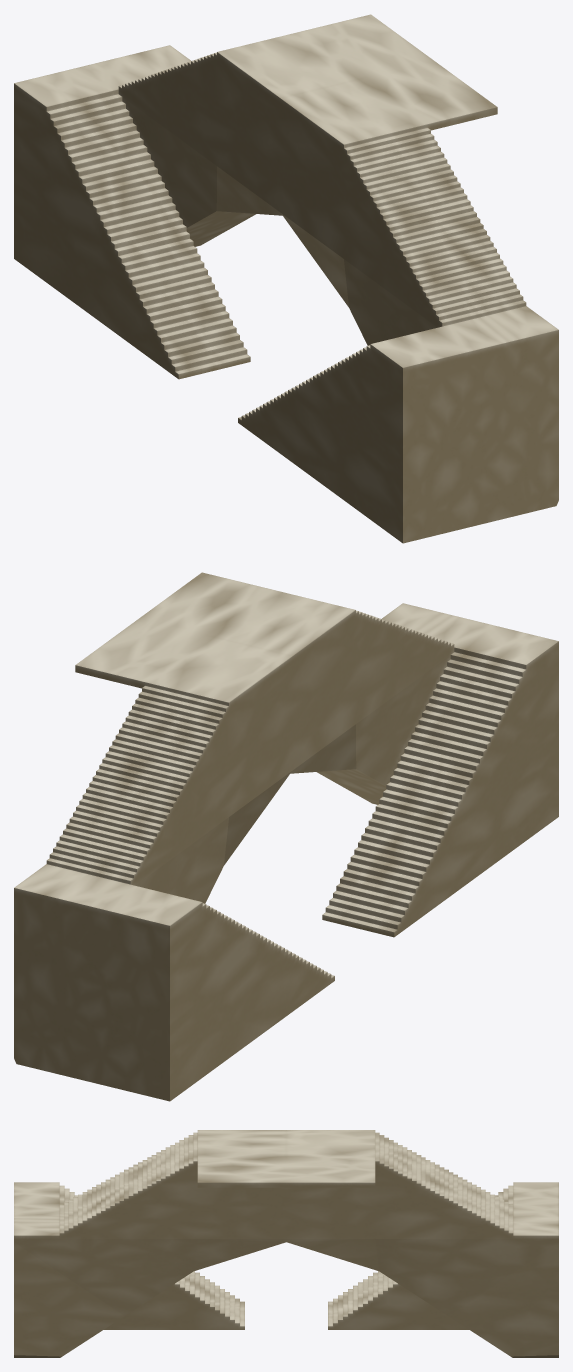
Rendered from Big Stairs.fbx.
The picture shows the model from 3 angles, top to bottom: view 1: azimuth 30°, elevation 25°; view 2: azimuth 150°, elevation 25°; view 3: azimuth 270°, elevation 25°; orthographic projection. The views are drawn at different scales.
Visible parts, largest first — view 1: Big Stairs_Baked; view 2: Big Stairs_Baked; view 3: Big Stairs_Baked.
Boxes of the visible parts, x1,y1,x2,y2 form: Big Stairs_Baked: (14, 14, 558, 543); Big Stairs_Baked: (14, 572, 558, 1101); Big Stairs_Baked: (14, 1130, 558, 1357).
Bounding box in the file's own units: 926 × 1118 × 2762.
